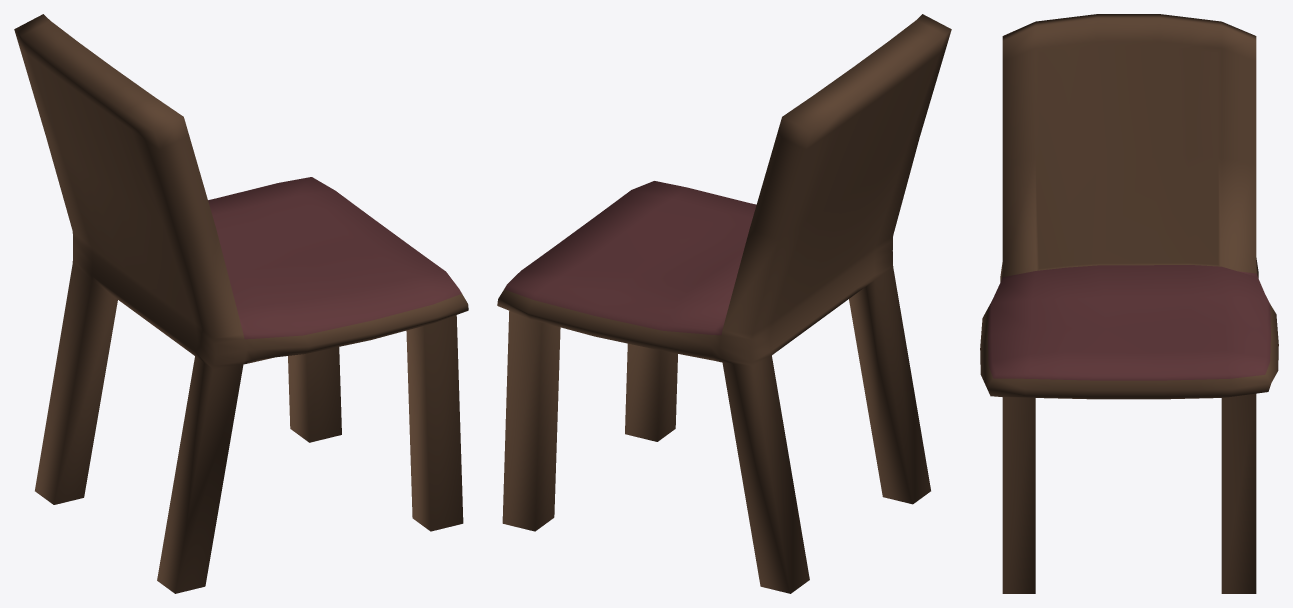
The model's file is Chair.fbx.
3 renders of one model, left to right at view 1: azimuth 30°, elevation 25°; view 2: azimuth 150°, elevation 25°; view 3: azimuth 270°, elevation 25°, orthographic. The views are drawn at different scales.
Parts seen in each view (by area): view 1: Chair; view 2: Chair; view 3: Chair.
Boxes of the visible parts, left/top/right/bottom form: Chair: left=14, top=14, right=468, bottom=593; Chair: left=497, top=14, right=951, bottom=593; Chair: left=980, top=14, right=1278, bottom=593.
Size of the model in its own units: 58.35 by 82.83 by 50.6.
